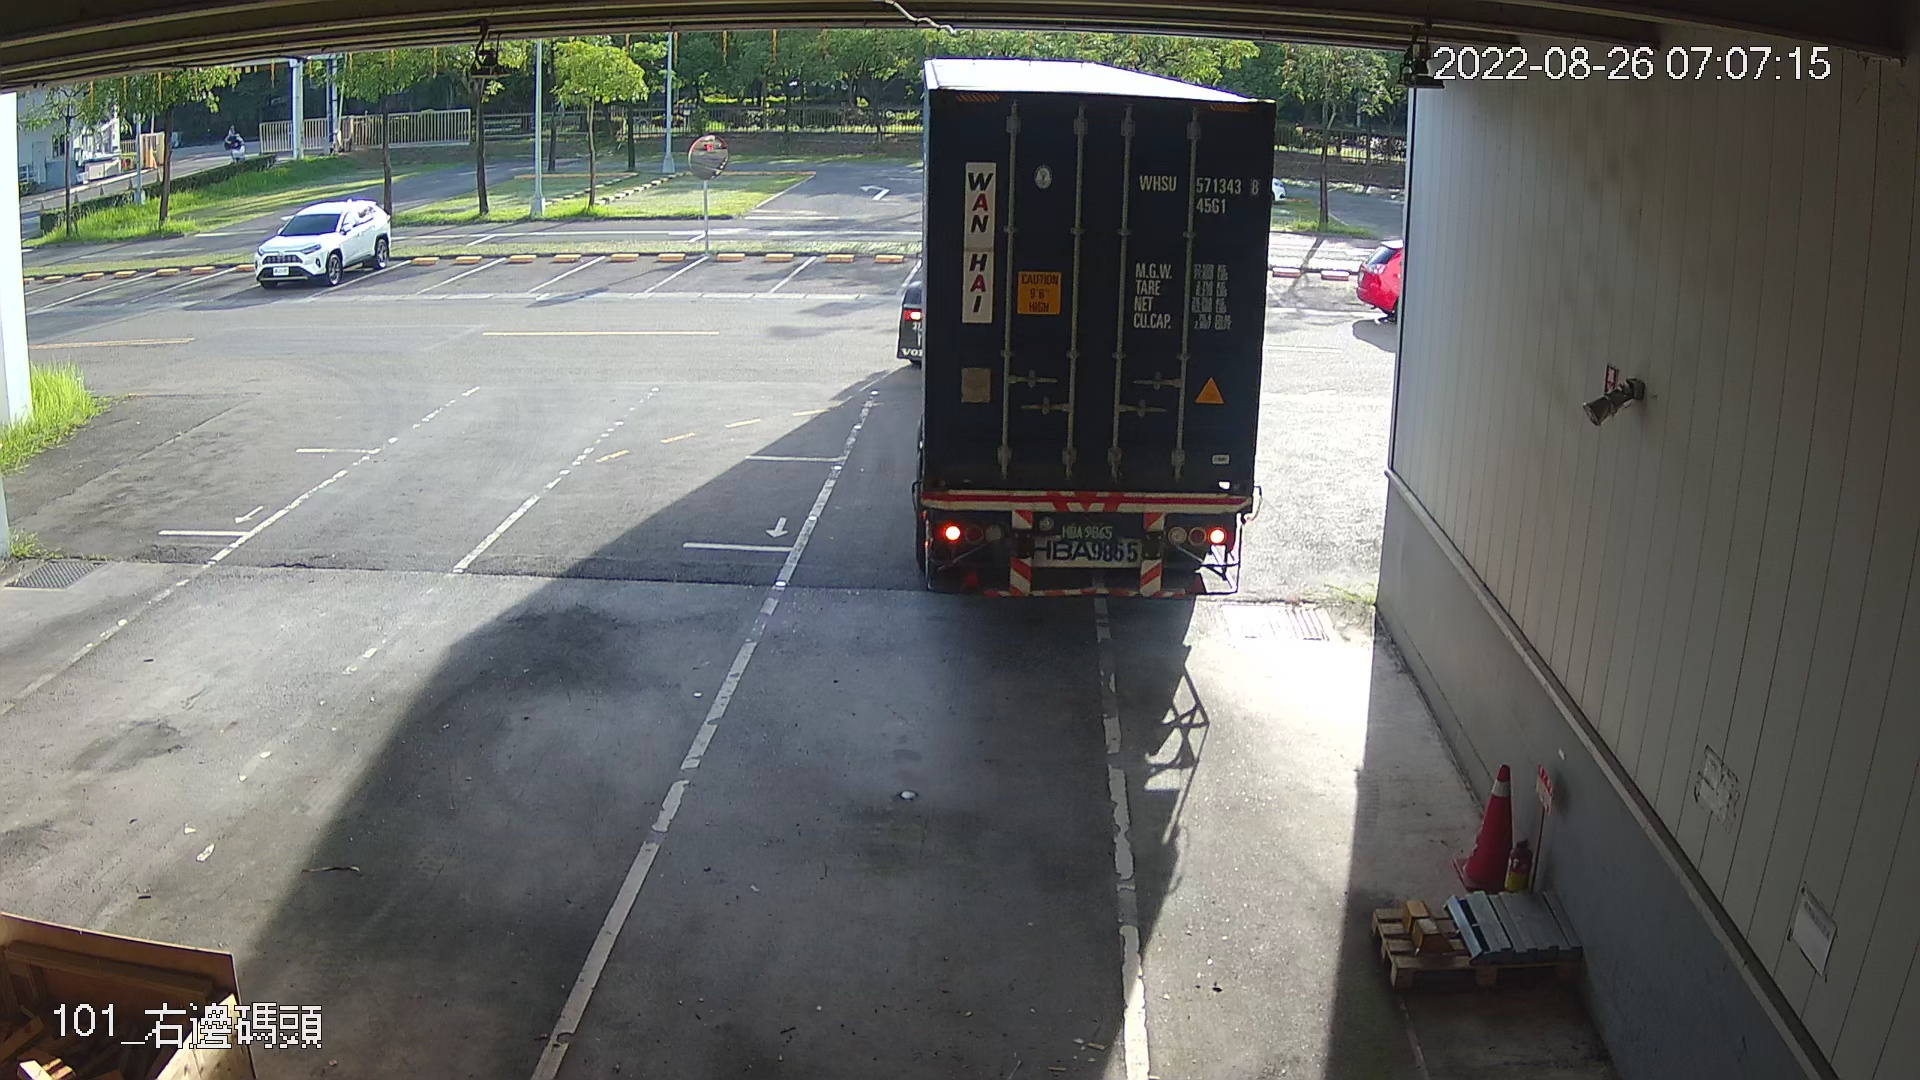container: (1134, 158, 1265, 222)
